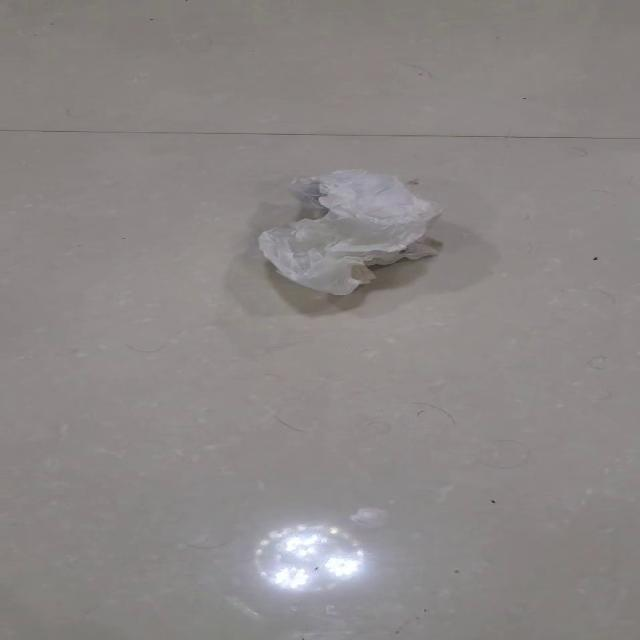plastic: (256, 167, 442, 296)
